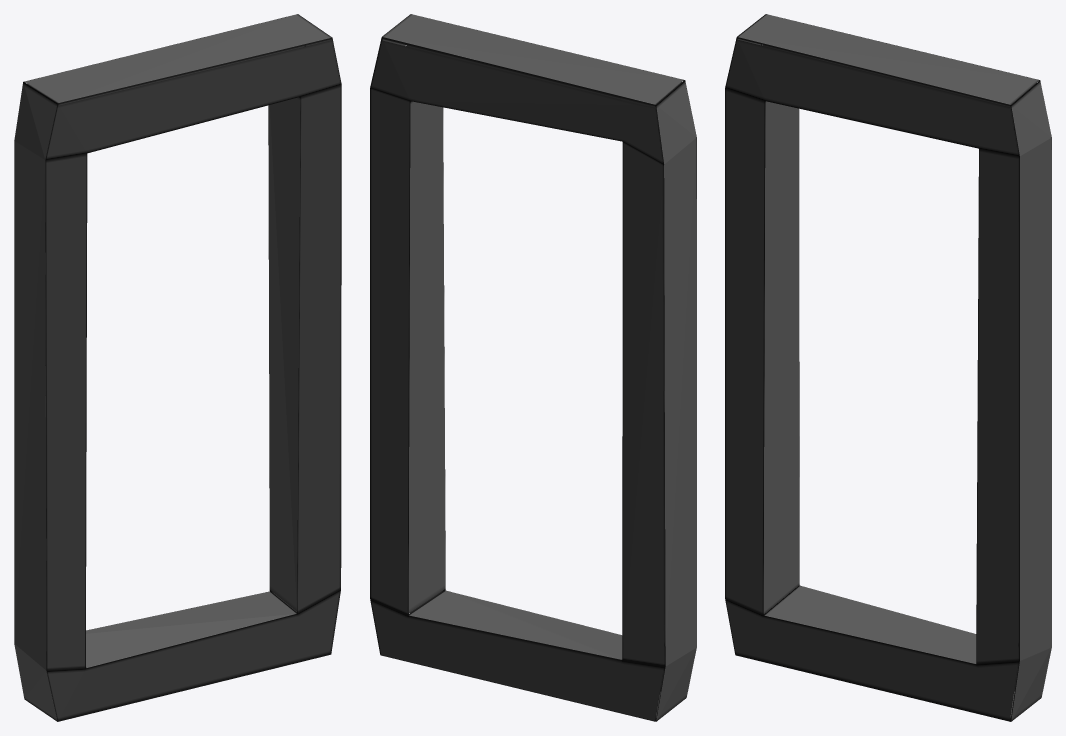
Rendered from warp.obj.
The picture shows the model from 3 angles, left to right: view 1: azimuth 30°, elevation 25°; view 2: azimuth 150°, elevation 25°; view 3: azimuth 330°, elevation 25°; orthographic projection.
Parts seen in each view (by area): view 1: Cube; view 2: Cube; view 3: Cube.
Boxes of the visible parts, x1,y1,x2,y2 form: Cube: (14, 14, 341, 721); Cube: (370, 14, 696, 721); Cube: (725, 14, 1051, 721).
Size of the model in its own units: 1.99 by 3.98 by 0.384.
